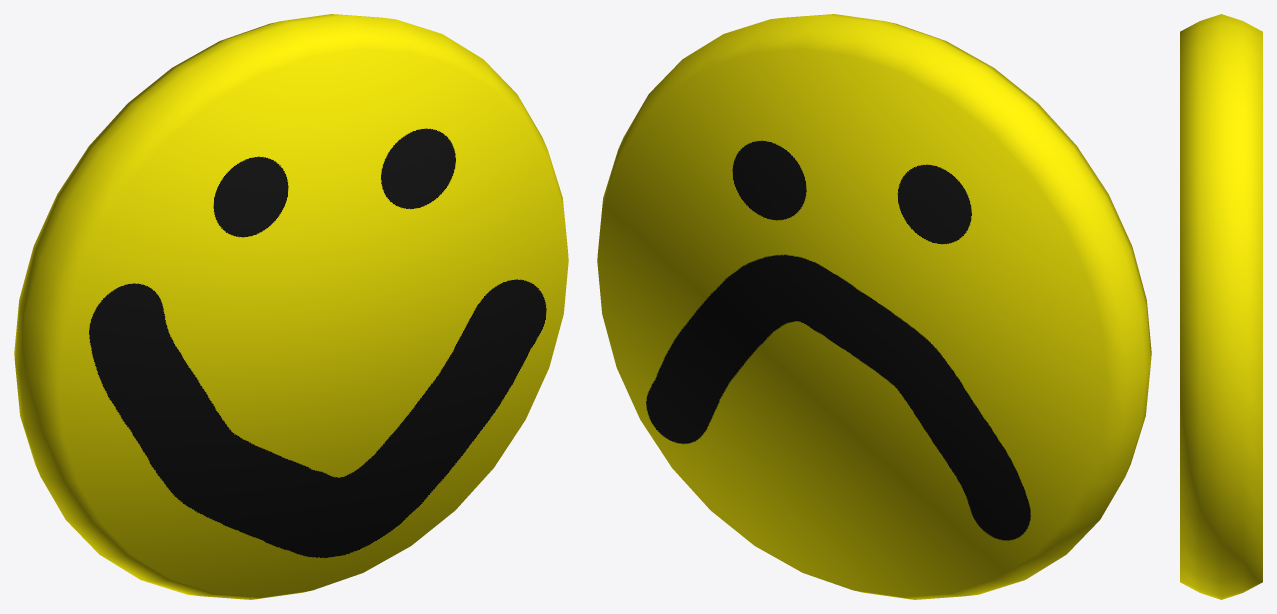
File: test-anim.glb
The picture shows the model from 3 angles, left to right: view 1: azimuth 30°, elevation 25°; view 2: azimuth 150°, elevation 25°; view 3: azimuth 270°, elevation 25°; orthographic projection. The views are drawn at different scales.
Visible parts, largest first — view 1: Circle; view 2: Circle; view 3: Circle.
Part boxes in pixels (x1,y1,x2,y2): Circle: (14,14,568,599); Circle: (597,14,1151,599); Circle: (1180,14,1262,599).
Bounding box in the file's own units: 2 × 2 × 0.2819.
3 materials, 2 textured.
